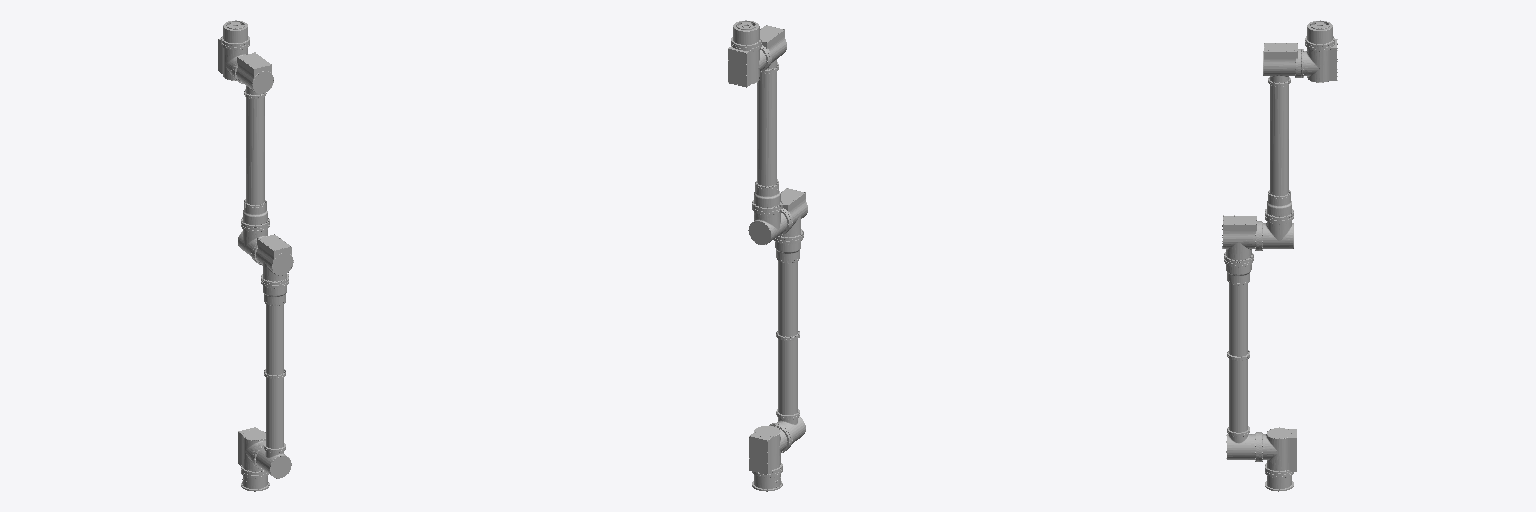
The robot description file, URDF, robot "KARM_EQM":
<?xml version="1.0" encoding="utf-8"?>
<!-- This URDF was automatically created by SolidWorks to URDF Exporter! Originally created by [author] ([email redacted]) 
 Commit Version: 1.6.0-4-g7f85cfe  Build Version: 1.6.7995.38578
 For more information, please see http://wiki.ros.org/sw_urdf_exporter -->
<robot
  name="KARM_EQM">
<link name="world"/>
  <link
    name="base_link">
    <inertial>
      <origin
        xyz="8.2542E-05 -2.0757E-11 0.048979"
        rpy="0 0 0" />
      <mass
        value="2.7715" />
      <inertia
        ixx="0.0051534"
        ixy="9.8483E-12"
        ixz="2.6648E-05"
        iyy="0.005029"
        iyz="3.019E-12"
        izz="0.0072657" />
    </inertial>
    <visual>
      <origin
        xyz="0 0 0"
        rpy="0 0 0" />
      <geometry>
        <mesh
          filename="meshes/base_link.STL" />
      </geometry>
      <material
        name="">
        <color
          rgba="0.75294 0.75294 0.75294 1" />
      </material>
    </visual>
    <collision>
      <origin
        xyz="0 0 0"
        rpy="0 0 0" />
      <geometry>
        <mesh
          filename="meshes/base_link.STL" />
      </geometry>
    </collision>
  </link>
  <link
    name="link1">
    <inertial>
      <origin
        xyz="-0.0001351 0.0044415 0.089359"
        rpy="0 0 0" />
      <mass
        value="6.5395" />
      <inertia
        ixx="0.023852"
        ixy="1.1192E-07"
        ixz="1.5092E-07"
        iyy="0.022043"
        iyz="-0.00028982"
        izz="0.01995" />
    </inertial>
    <visual>
      <origin
        xyz="0 0 0"
        rpy="0 0 0" />
      <geometry>
        <mesh
          filename="meshes/link1.STL" />
      </geometry>
      <material
        name="">
        <color
          rgba="0.75294 0.75294 0.75294 1" />
      </material>
    </visual>
    <collision>
      <origin
        xyz="0 0 0"
        rpy="0 0 0" />
      <geometry>
        <mesh
          filename="meshes/link1.STL" />
      </geometry>
    </collision>
  </link>

  <link
    name="link2">
    <inertial>
      <origin
        xyz="0.447266049338714 9.81277627616803E-06 -0.0864465546497567"
        rpy="0 0 0" />
      <mass
        value="14.5254250159894" />
      <inertia
        ixx="0.0316449332553447"
        ixy="5.58291621087347E-07"
        ixz="0.000547486320569549"
        iyy="0.139457648132206"
        iyz="-1.36084653057748E-06"
        izz="0.139926786135881" />
    </inertial>
    <visual>
      <origin
        xyz="0 0 0"
        rpy="0 0 0" />
      <geometry>
        <mesh
          filename="meshes/link2.STL" />
      </geometry>
      <material
        name="">
        <color
          rgba="0.752941176470588 0.752941176470588 0.752941176470588 1" />
      </material>
    </visual>
    <collision>
      <origin
        xyz="0 0 0"
        rpy="0 0 0" />
      <geometry>
        <mesh
          filename="meshes/link2.STL" />
      </geometry>
    </collision>
  </link>

  <link
    name="link3">
    <inertial>
      <origin
        xyz="-0.00013626 -0.013622 0.099896"
        rpy="0 0 0" />
      <mass
        value="6.4825" />
      <inertia
        ixx="0.023483"
        ixy="5.8965E-07"
        ixz="-4.0613E-08"
        iyy="0.021463"
        iyz="0.00049908"
        izz="0.020008" />
    </inertial>
    <visual>
      <origin
        xyz="0 0 0"
        rpy="0 0 0" />
      <geometry>
        <mesh
          filename="meshes/link3.STL" />
      </geometry>
      <material
        name="">
        <color
          rgba="0.75294 0.75294 0.75294 1" />
      </material>
    </visual>
    <collision>
      <origin
        xyz="0 0 0"
        rpy="0 0 0" />
      <geometry>
        <mesh
          filename="meshes/link3.STL" />
      </geometry>
    </collision>
  </link>

  <link
    name="link4">
    <inertial>
      <origin
        xyz="0.0308962489888813 7.79267188454942E-08 -0.0753185892478983"
        rpy="0 0 0" />
      <mass
        value="5.77091277717193" />
      <inertia
        ixx="0.0153724702367589"
        ixy="8.77488405691915E-08"
        ixz="0.000896956837443678"
        iyy="0.0173511322184264"
        iyz="1.53191862133355E-07"
        izz="0.0174707209690322" />
    </inertial>
    <visual>
      <origin
        xyz="0 0 0"
        rpy="0 0 0" />
      <geometry>
        <mesh
          filename="meshes/link4.STL" />
      </geometry>
      <material
        name="">
        <color
          rgba="0.752941176470588 0.752941176470588 0.752941176470588 1" />
      </material>
    </visual>
    <collision>
      <origin
        xyz="0 0 0"
        rpy="0 0 0" />
      <geometry>
        <mesh
          filename="meshes/link4.STL" />
      </geometry>
    </collision>
  </link>

  <link
    name="link5">
    <inertial>
      <origin
        xyz="-7.294E-05 -0.007814 0.48332"
        rpy="0 0 0" />
      <mass
        value="13.5" />
      <inertia
        ixx="0.20727"
        ixy="1.3048E-06"
        ixz="4.1067E-07"
        iyy="0.20542"
        iyz="0.00015902"
        izz="0.03354" />
    </inertial>
    <visual>
      <origin
        xyz="0 0 0"
        rpy="0 0 0" />
      <geometry>
        <mesh
          filename="meshes/link5.STL" />
      </geometry>
      <material
        name="">
        <color
          rgba="0.75294 0.75294 0.75294 1" />
      </material>
    </visual>
    <collision>
      <origin
        xyz="0 0 0"
        rpy="0 0 0" />
      <geometry>
        <mesh
          filename="meshes/link5.STL" />
      </geometry>
    </collision>
  </link>

  <link
    name="link6">
    <inertial>
      <origin
        xyz="0.0226409262393772 -0.000135290448474516 0.0905585316249733"
        rpy="0 0 0" />
      <mass
        value="6.53953654625201" />
      <inertia
        ixx="0.0199500209234715"
        ixy="-1.50549505787494E-07"
        ixz="-0.000289821877154332"
        iyy="0.0238523137351639"
        iyz="-1.11733382781844E-07"
        izz="0.0220428528009073" />
    </inertial>
    <visual>
      <origin
        xyz="0 0 0"
        rpy="0 0 0" />
      <geometry>
        <mesh
          filename="meshes/link6.STL" />
      </geometry>
      <material
        name="">
        <color
          rgba="0.752941176470588 0.752941176470588 0.752941176470588 1" />
      </material>
    </visual>
    <collision>
      <origin
        xyz="0 0 0"
        rpy="0 0 0" />
      <geometry>
        <mesh
          filename="meshes/link6.STL" />
      </geometry>
    </collision>
  </link>

  <link
    name="link7">
    <inertial>
      <origin
        xyz="-2.00217781812251E-05 -1.80958026341216E-11 0.0387539433791355"
        rpy="0 0 0" />
      <mass
        value="2.91241532737351" />
      <inertia
        ixx="0.00516383226388649"
        ixy="2.68745926335947E-09"
        ixz="-2.24244031252904E-06"
        iyy="0.00516422825221854"
        iyz="-1.44105361312819E-12"
        izz="0.00707129033492822" />
    </inertial>
    <visual>
      <origin
        xyz="0 0 0"
        rpy="0 0 0" />
      <geometry>
        <mesh
          filename="meshes/link7.STL" />
      </geometry>
      <material
        name="">
        <color
          rgba="0.752941176470588 0.752941176470588 0.752941176470588 1" />
      </material>
    </visual>
    <collision>
      <origin
        xyz="0 0 0"
        rpy="0 0 0" />
      <geometry>
        <mesh
          filename="meshes/link7.STL" />
      </geometry>
    </collision>
  </link>

  <link name="tcp">
      <inertial>
        <origin xyz="0 0 0"  rpy="0 0 0" />
        <mass value="0.0"/>
        <inertia  ixx="0.0"      ixy="0"      ixz="0"      iyy="0.0"      iyz="0"      izz="0.0" />
     </inertial>
  </link>


  <joint name="world_fixed" type="fixed">
    <parent link="world"/>
    <child link="base_link"/>
    <origin xyz="0 0 0" rpy="0 0 0"/>
    <axis xyz="0 0 1"/>
  </joint>

  <joint
    name="joint1"
    type="revolute">
    <origin
      xyz="0 0 0.087"
      rpy="0 0 3.141592" />
    <parent
      link="base_link" />
    <child
      link="link1" />
    <axis
      xyz="0 0 1" />
    <limit
      lower="-3.14"
      upper="3.14"
      effort="400"
      velocity="3.14" />
  </joint>

  <joint
    name="joint2"
    type="revolute">
    <origin
      xyz="0 0.097 0.112"
      rpy="1.5708 -1.5708 0" />
    <parent
      link="link1" />
    <child
      link="link2" />
    <axis
      xyz="0 0 1" />
    <limit
      lower="-3.14"
      upper="3.14"
      effort="400"
      velocity="3.14" />
  </joint>

  <joint
    name="joint3"
    type="revolute">
    <origin
      xyz="0.988 0 -0.095"
      rpy="-1.5708 0 -1.5708" />
    <parent
      link="link2" />
    <child
      link="link3" />
    <axis
      xyz="0 0 1" />
    <limit
      lower="-3.14"
      upper="3.14"
      effort="400"
      velocity="3.14" />
  </joint>

  <joint
    name="joint4"
    type="revolute">
    <origin
      xyz="0 -0.097 0.112"
      rpy="-1.5708 -1.5708 0" />
    <parent
      link="link3" />
    <child
      link="link4" />
    <axis
      xyz="0 0 -1" />
    <limit
      lower="-3.14"
      upper="3.14"
      effort="400"
      velocity="3.14" />
  </joint>

  <joint
    name="joint5"
    type="revolute">
    <origin
      xyz="0.114 0 -0.095"
      rpy="1.5708 0 1.5708" />
    <parent
      link="link4" />
    <child
      link="link5" />
    <axis
      xyz="0 0 1" />
    <limit
      lower="-3.14"
      upper="3.14"
      effort="400"
      velocity="3.14" />
  </joint>

  <joint
    name="joint6"
    type="revolute">
    <origin
      xyz="0 -0.097 0.786"
      rpy="-1.5704 -1.5708 3.1412" />
    <parent
      link="link5" />
    <child
      link="link6" />
    <axis
      xyz="0 0 1" />
    <limit
      lower="-3.14"
      upper="3.14"
      effort="400"
      velocity="3.14" />
  </joint>

  <joint
    name="joint7"
    type="revolute">
    <origin
      xyz="0.114 0 0.095"
      rpy="-1.5708 0 -1.5708" />
    <parent
      link="link6" />
    <child
      link="link7" />
    <axis
      xyz="0 0 1" />
    <limit
      lower="-3.14"
      upper="3.14"
      effort="400"
      velocity="3.14" />
  </joint>

  <joint name="tcp_fixed" type="fixed">
    <parent link="link7"/>
    <child link="tcp"/>
    <origin xyz="0 0 0.083" rpy="0 0 0"/>
  </joint>
</robot>

--- What the picture shows (computed from the rendered views, not written in the file) ---
3 views of the same robot in one strip: view 1: azimuth 30°, elevation 25°; view 2: azimuth 150°, elevation 25°; view 3: azimuth 270°, elevation 25° (orthographic).
Model KARM_EQM with 10 links and 9 joints (7 revolute, 2 fixed), rooted at world, posed all joints at 0.
Visible links, largest first — view 1: link2, link5, link3, link1, link6, link7; view 2: link2, link5, link1, link6, link4, link3, link7; view 3: link2, link5, link3, link1, link6, link4, link7.
Boxes of the visible links, x1,y1,x2,y2 form: link2: [253, 281, 291, 478]; link5: [233, 52, 273, 228]; link3: [253, 234, 293, 284]; link1: [238, 427, 266, 474]; link6: [218, 38, 249, 80]; link7: [221, 20, 249, 46]; link2: [770, 235, 805, 447]; link5: [752, 25, 786, 211]; link1: [749, 424, 790, 474]; link6: [728, 43, 769, 87]; link4: [748, 206, 790, 244]; link3: [776, 188, 807, 240]; link7: [731, 20, 761, 48]; link2: [1224, 258, 1258, 461]; link5: [1263, 43, 1299, 220]; link3: [1222, 215, 1258, 263]; link1: [1259, 427, 1296, 474]; link6: [1300, 39, 1337, 82]; link4: [1259, 216, 1293, 250]; link7: [1305, 20, 1334, 47].
Size in the robot's own frame: 0.14 by 0.5485 by 2.4 metres.
Meshes: 8 distinct files referenced, 8 mesh visuals loaded (8 binary STL).
